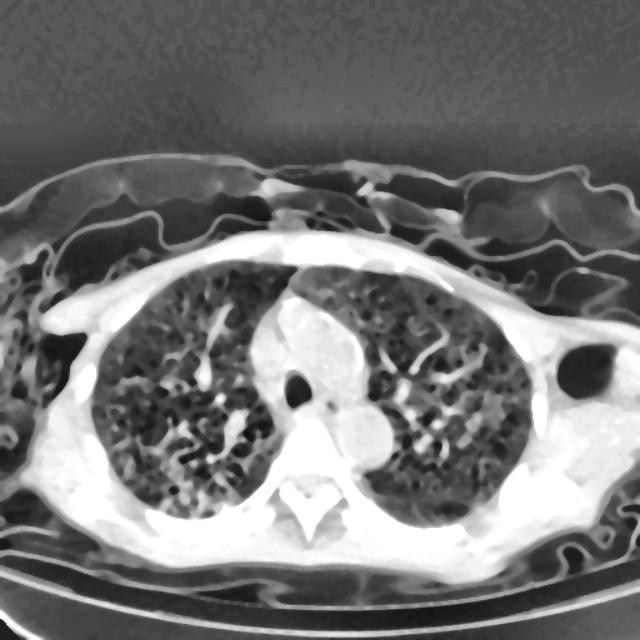covid: (1, 154, 638, 619)
